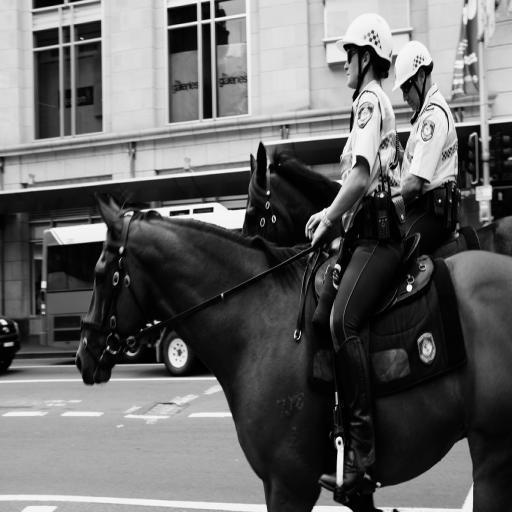horse: (74, 192, 511, 511), (241, 137, 512, 258)
